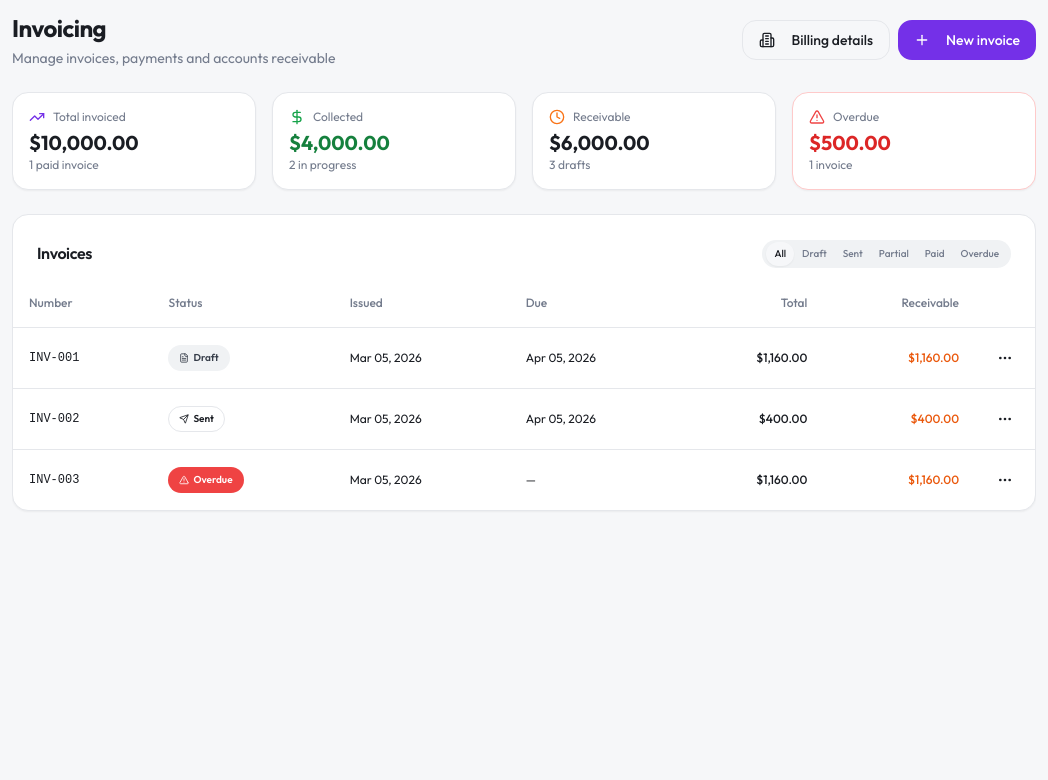
Invoicing in English › shows the detail with the dates formatted for English, the lines and the totals
Click the text "INV-001": click(54, 358) [13, 328, 152, 388]
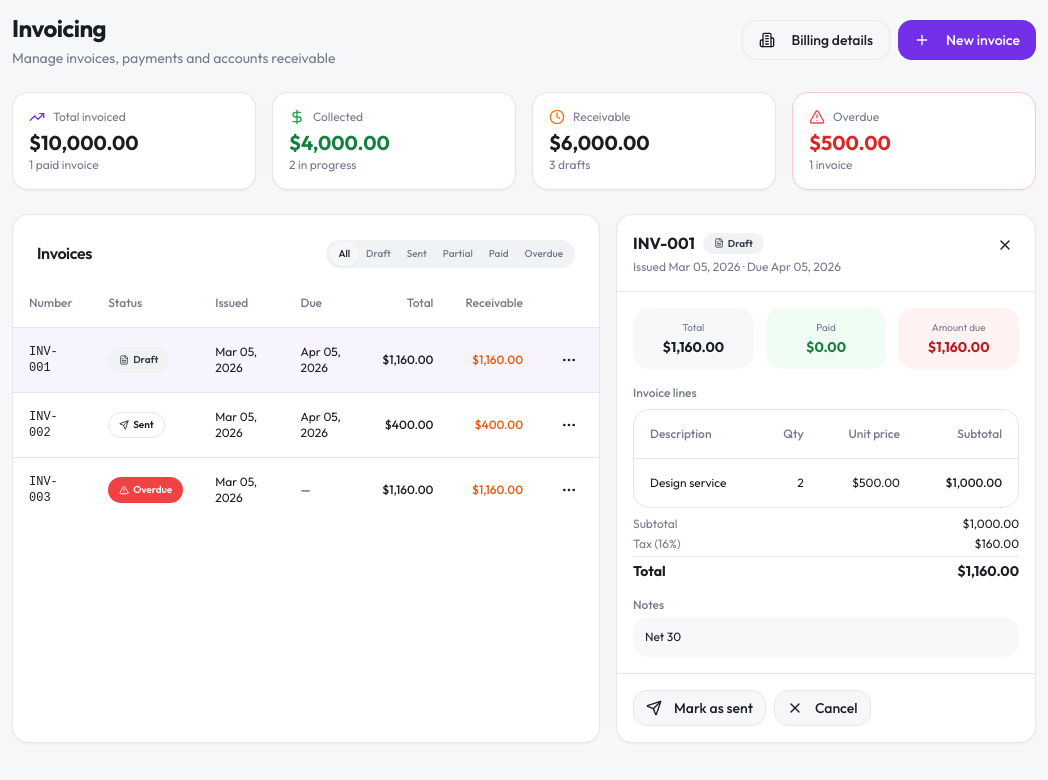
Expected: the text "Amount due" is shown, [932, 321, 986, 334]
Expected: the text "Invoice lines" is shown, [633, 385, 697, 400]
Expected: the text "Notes" is shown, [633, 596, 664, 612]
